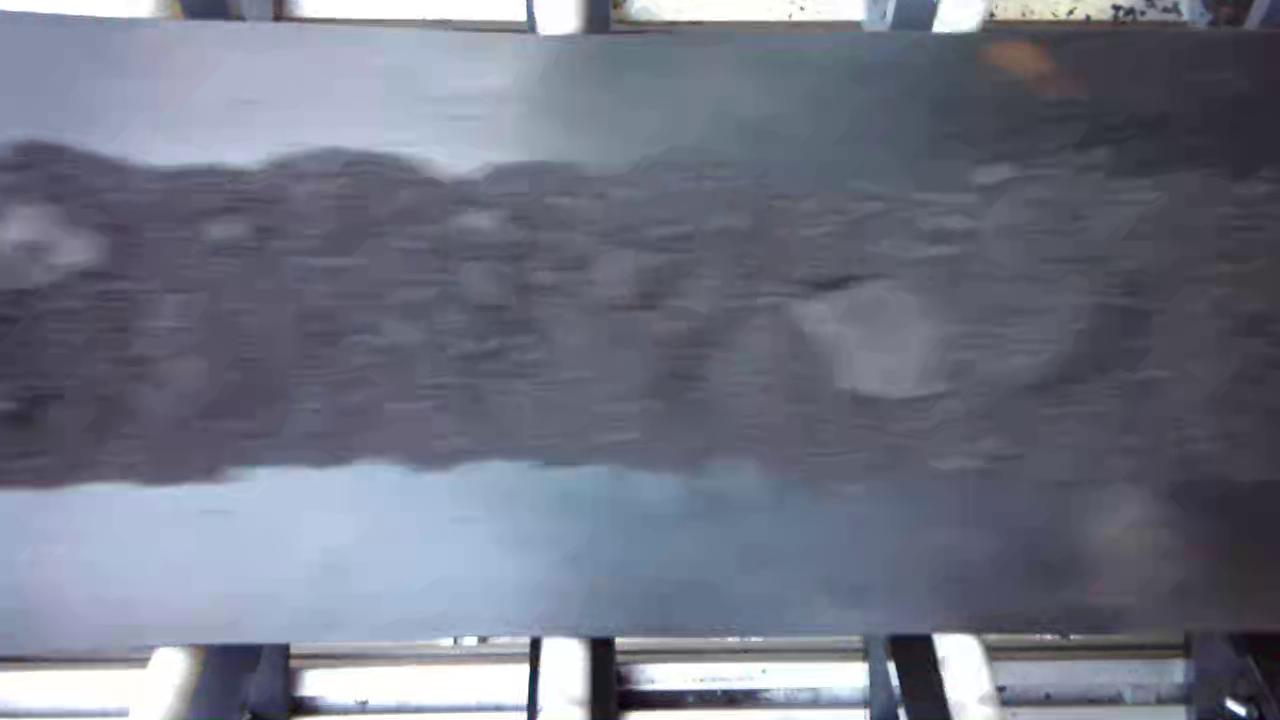conveyor: (3, 40, 1280, 618)
